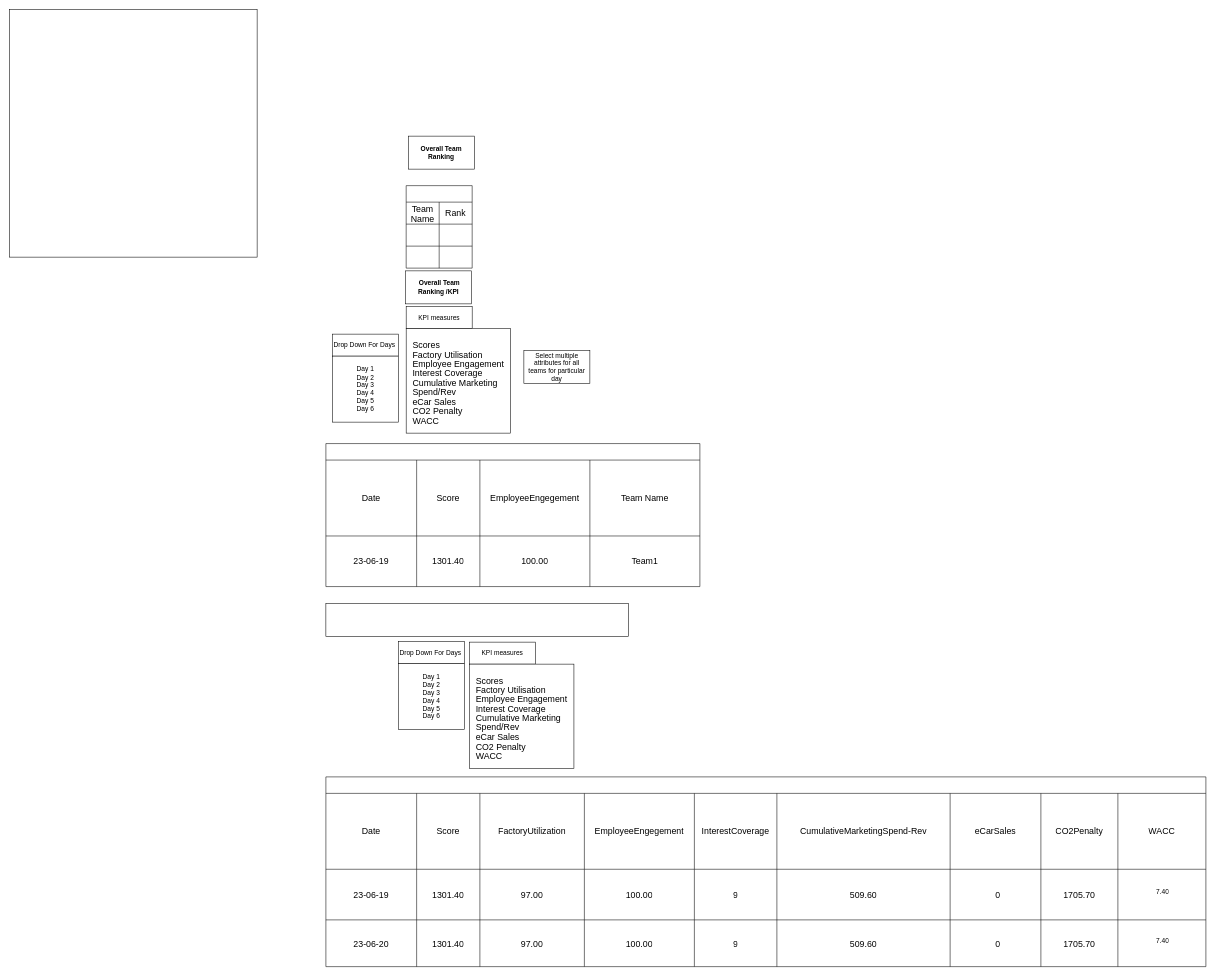
Some shapes in this 1216 by 976 pixel diagram are drawn without their labels. Here are the shapes that lost their labels. From the top down, the box of each, then its label:
(406, 185, 472, 268): Team Ranking
(325, 443, 700, 587): All Teams
(325, 603, 628, 637): Diaplay All teams for any particular day with all attributes
(325, 776, 1206, 967): Team Summary for day
